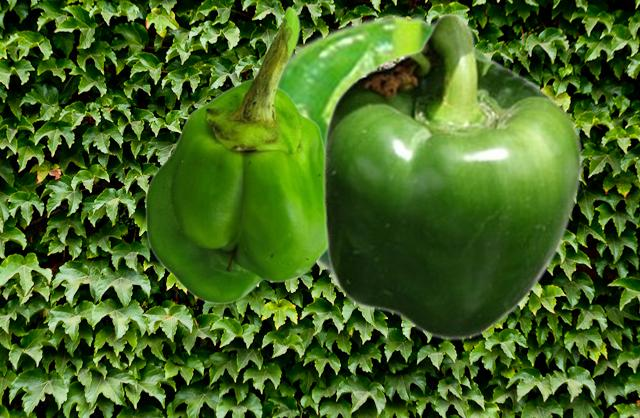bell_pepper: (321, 12, 582, 340), (279, 13, 504, 315), (144, 5, 325, 303)
